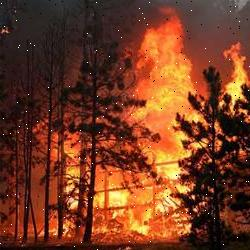fire: (56, 7, 248, 238)
